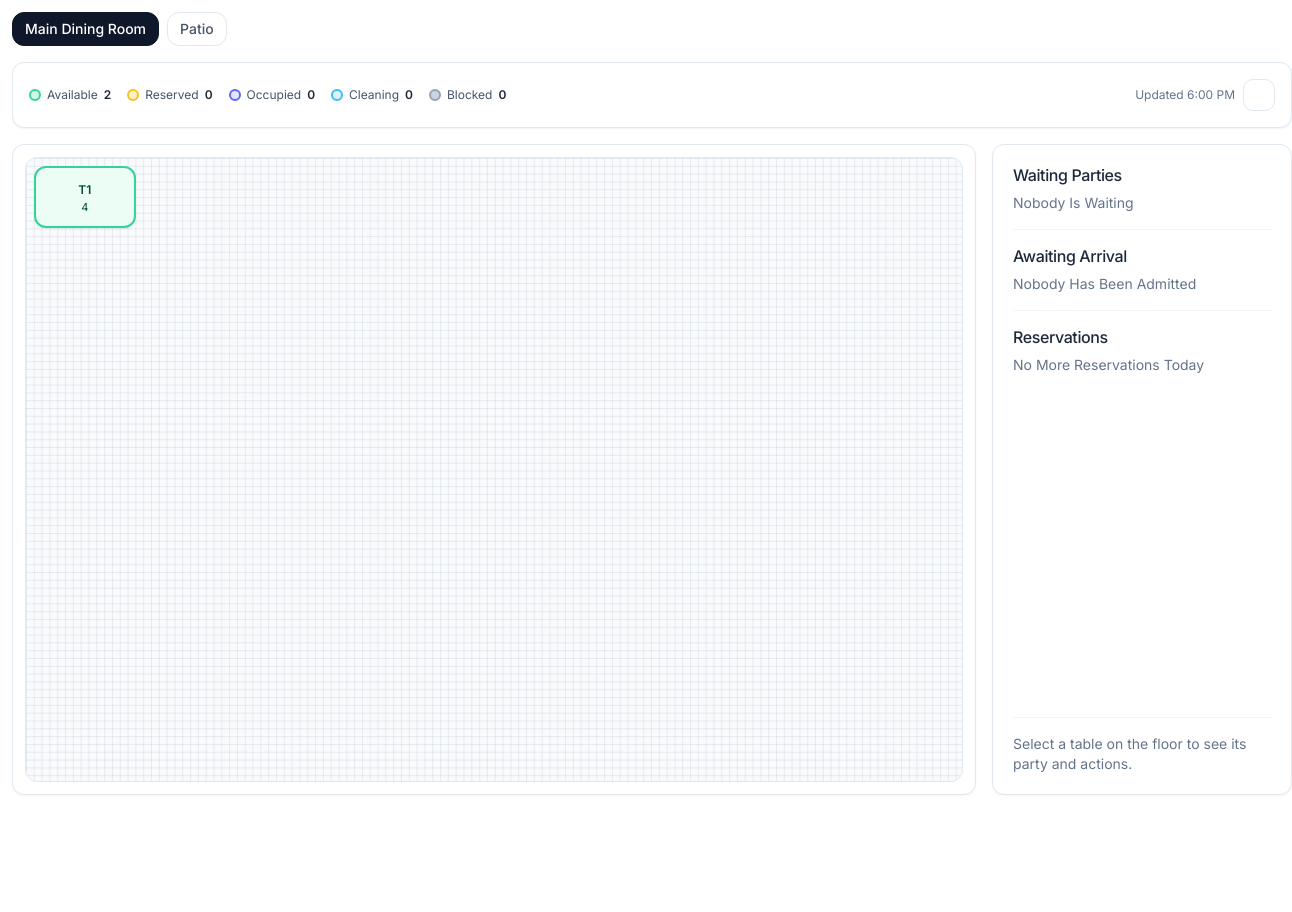
live floor overview › switches rooms and clears the selection
The image size is (1292, 912).
Press the mouse on the button with test id "live-table-T1" at (85, 197), box [34,166,136,228]
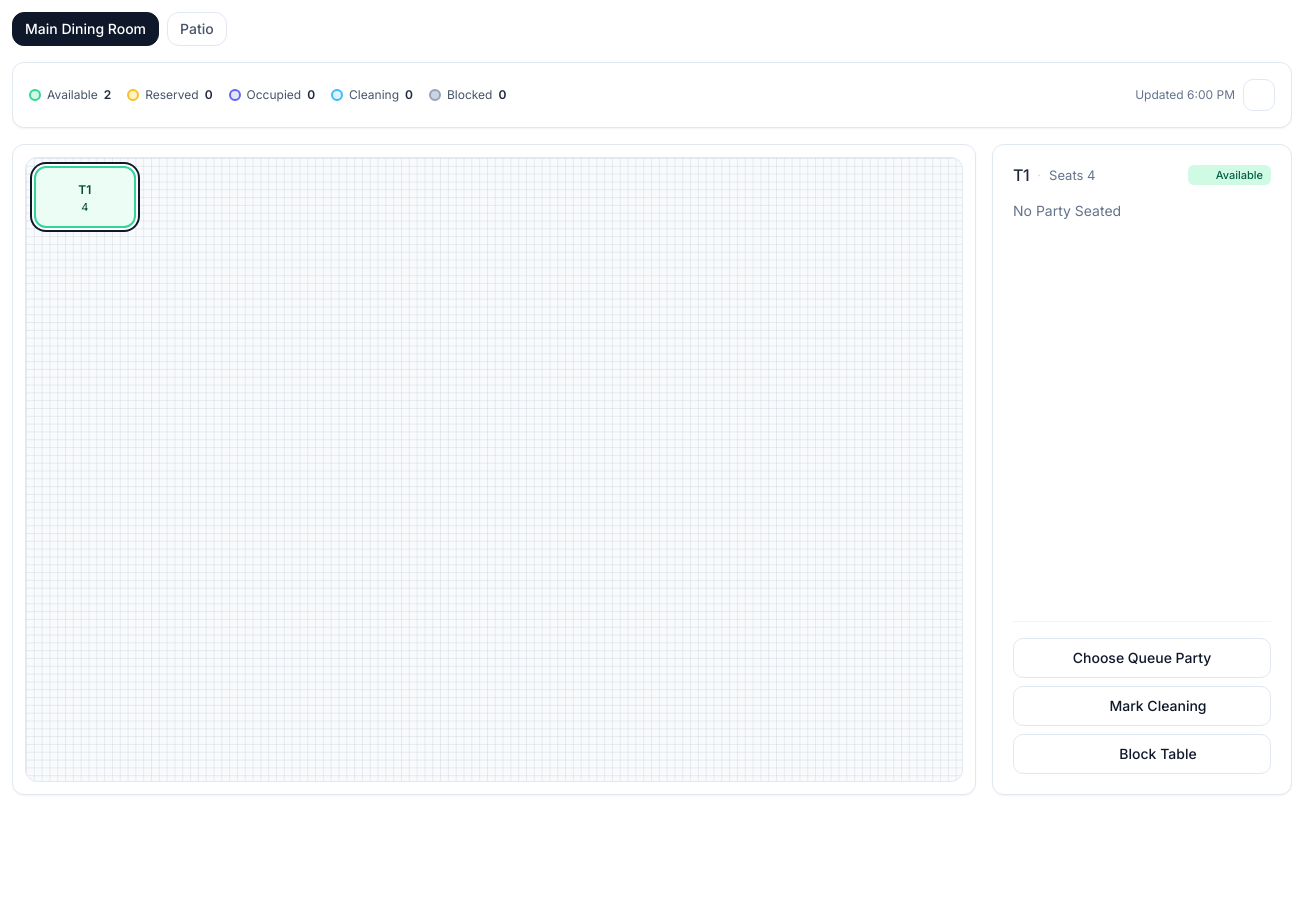
Click the button "Patio" at (197, 29), box [167,12,227,46]
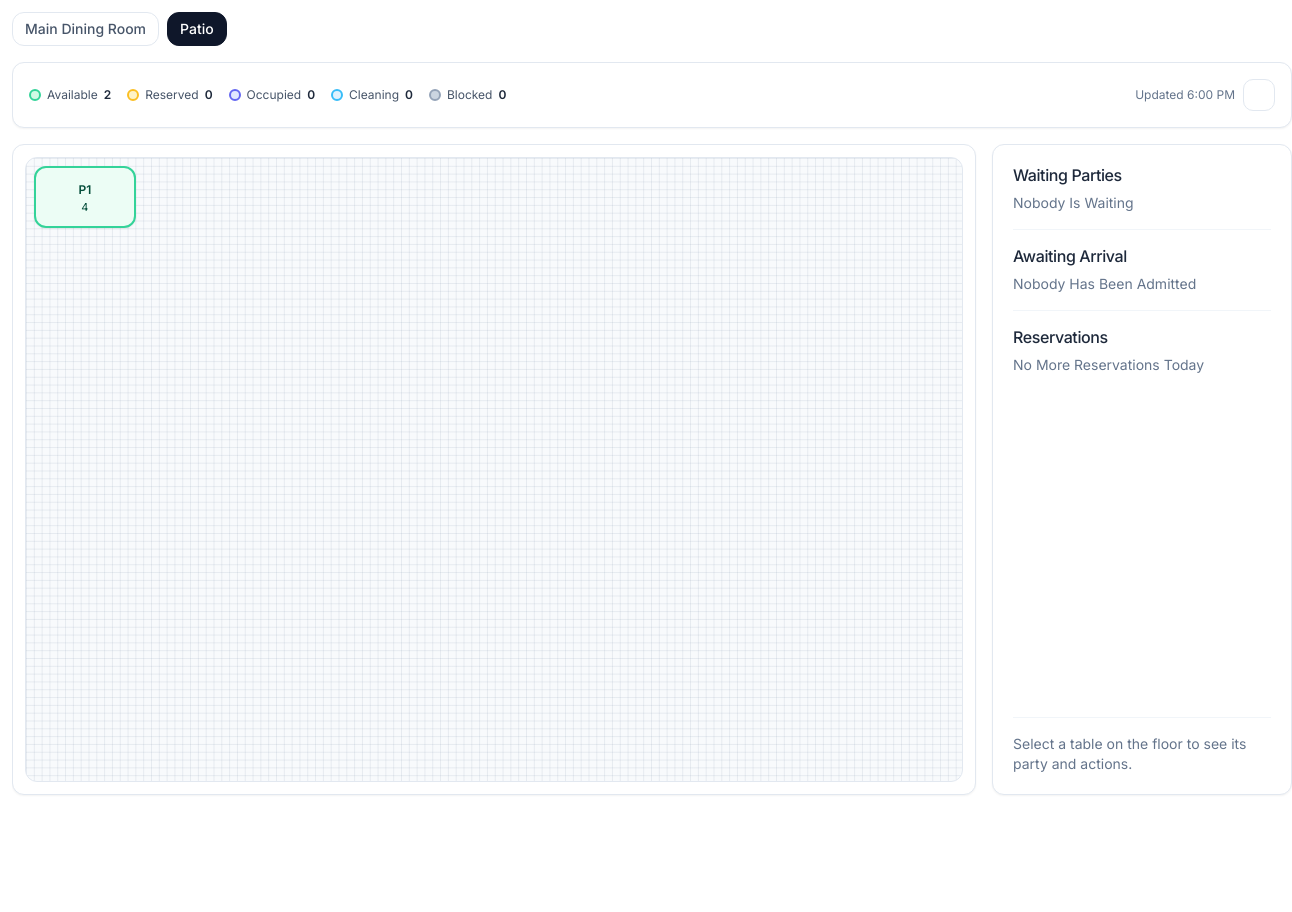
Now the button with test id "live-table-P1" is shown, box [34,166,136,228]
Now the button with test id "live-table-T1" is gone
Now the element with test id "live-table-detail" is gone
